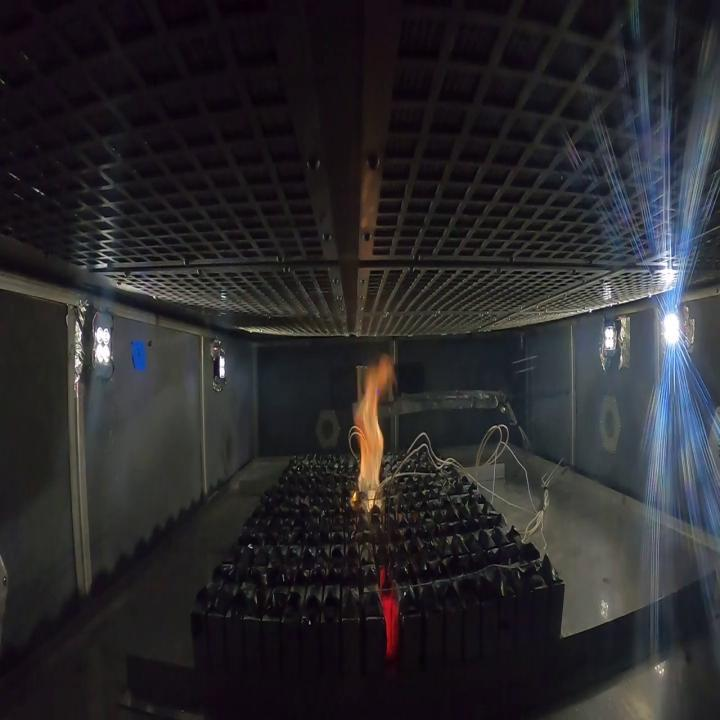fire: (348, 346, 399, 514)
